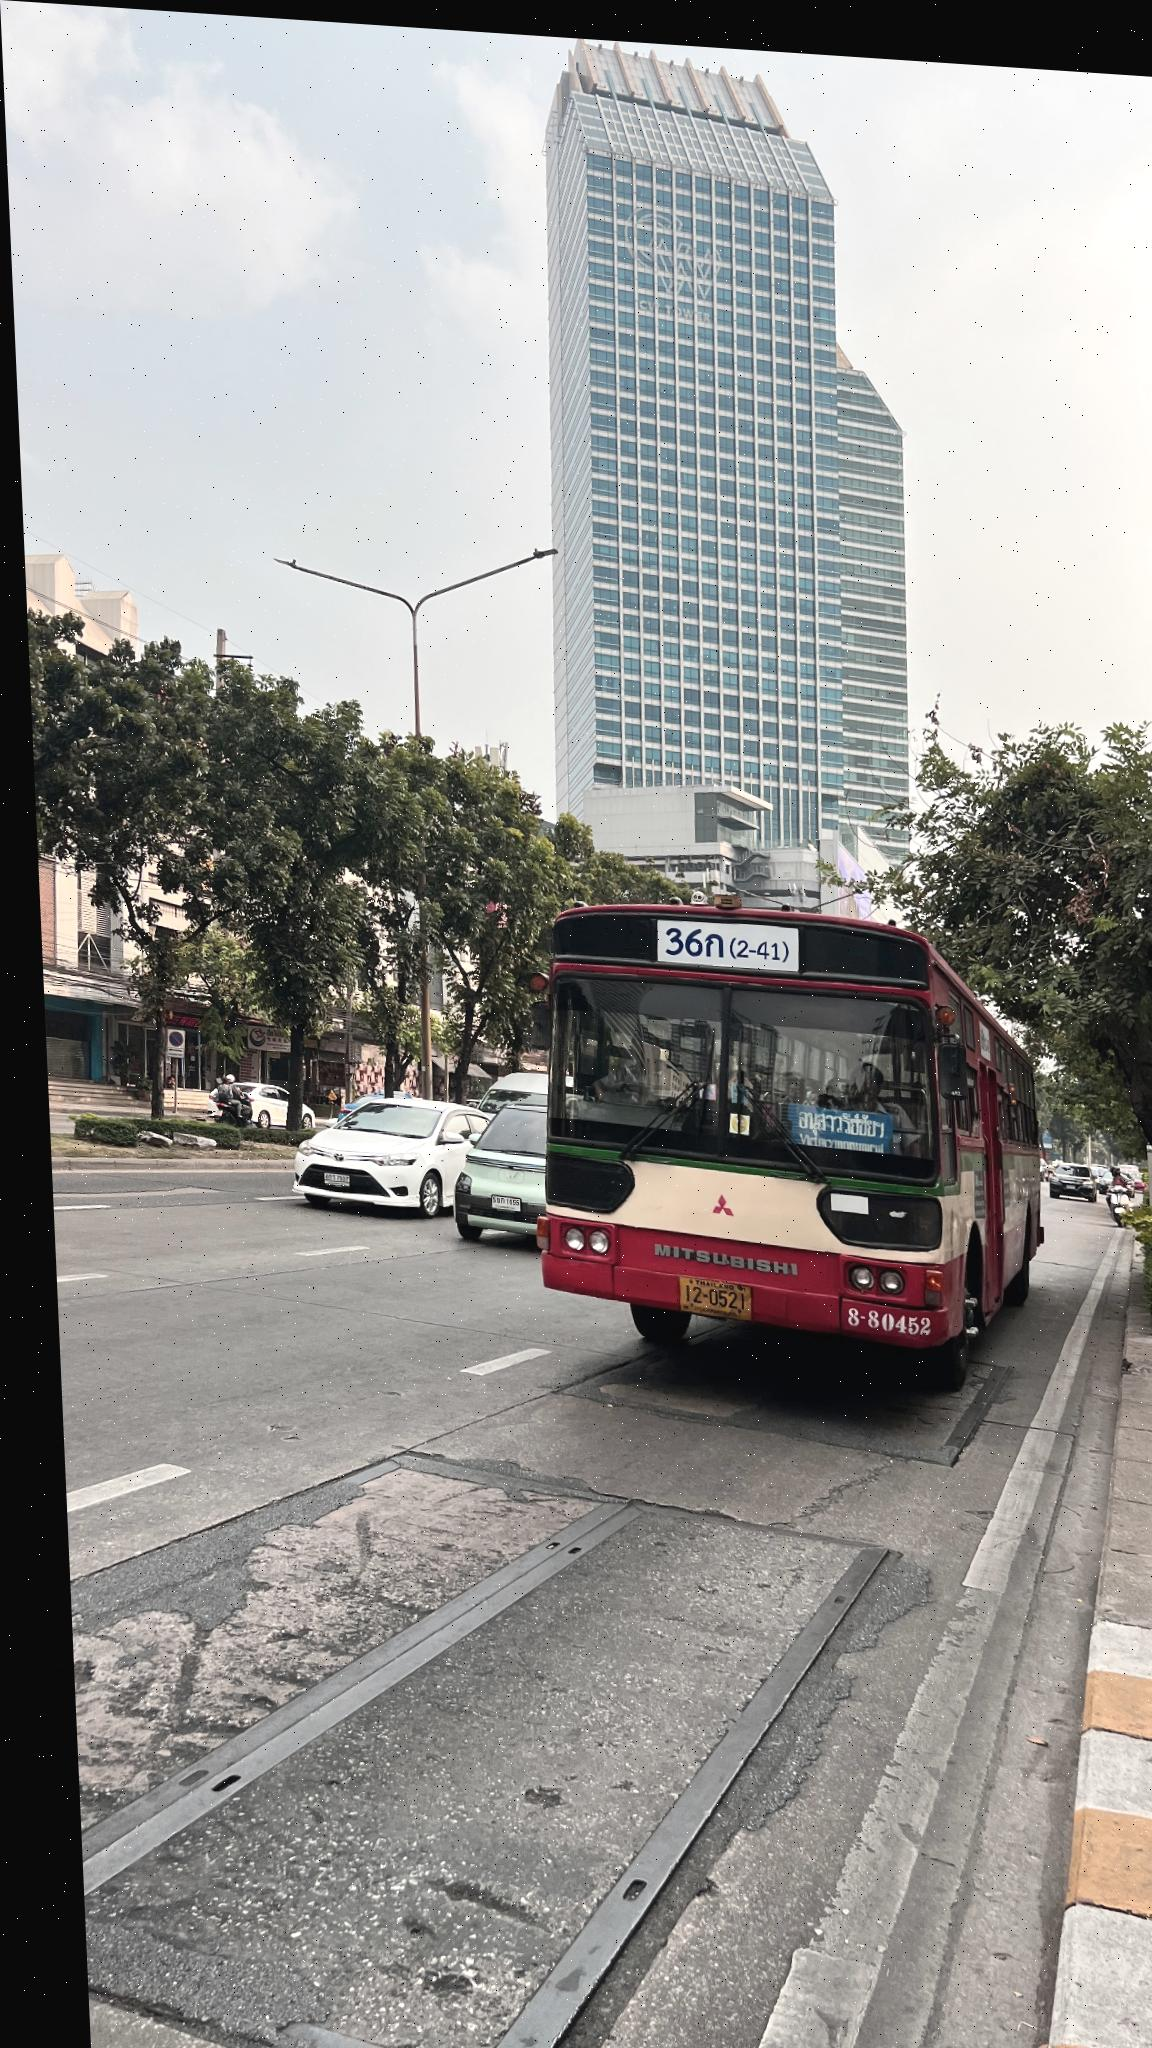BMTA-bus: (527, 889, 1034, 1356)
Bus Line Number: (644, 911, 796, 962)
Bus Side Number: (824, 1295, 926, 1331)
Destination Sign: (771, 1094, 886, 1144)
